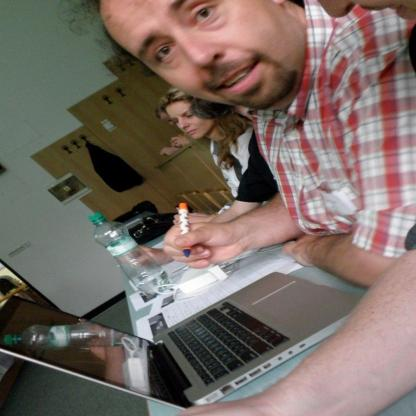board: (0, 271, 359, 412), (89, 211, 172, 294), (4, 324, 124, 348)
